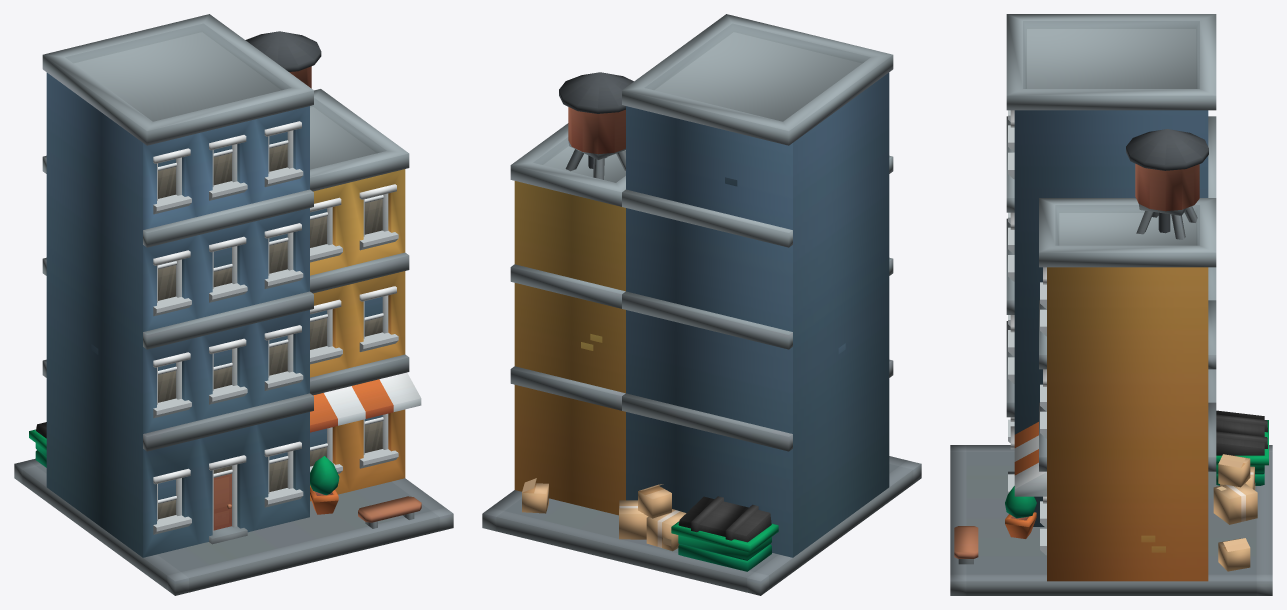
The model's file is building_H.glb.
3 views of the same model, side by side, from view 1: azimuth 30°, elevation 25°; view 2: azimuth 150°, elevation 25°; view 3: azimuth 270°, elevation 25° (orthographic).
Visible parts, largest first — view 1: building_H; view 2: building_H; view 3: building_H.
Part boxes in pixels (x1,y1,x2,y2): building_H: [14, 14, 453, 595]; building_H: [482, 14, 921, 595]; building_H: [950, 14, 1272, 595].
Bounding box in the file's own units: 2.01 × 3.05 × 2.
Materials: 1 (1 with a texture image).
